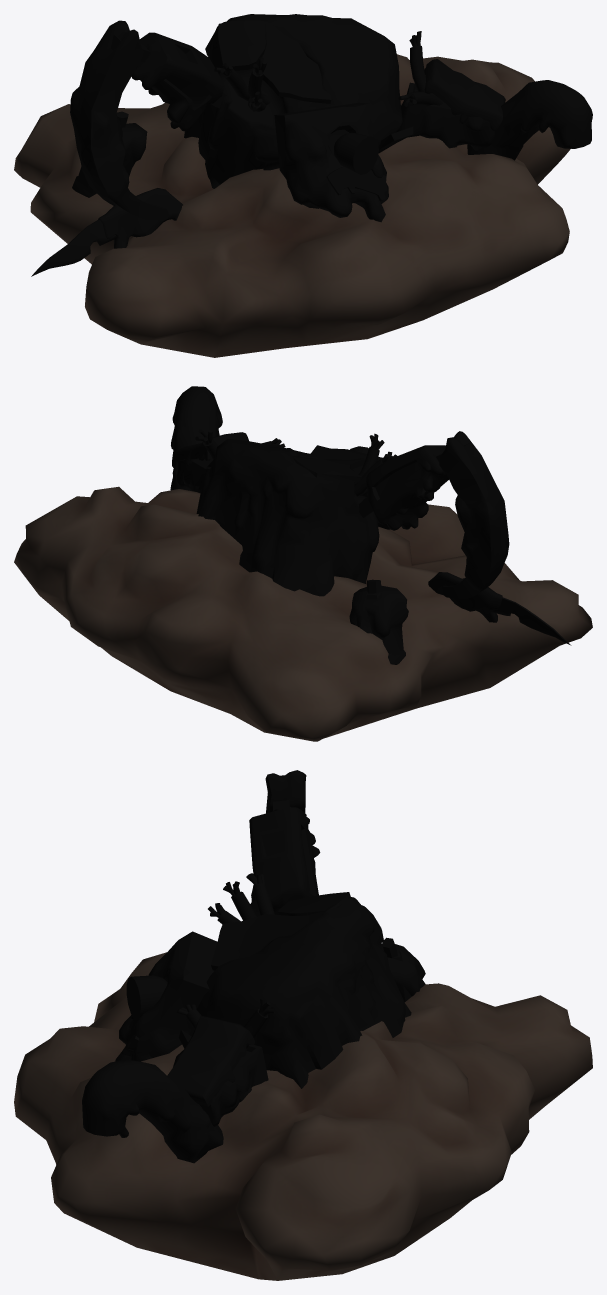
Rendered from env_burntforest_meltedbot04.fbx.
3 views of the same model, one above another, from view 1: azimuth 30°, elevation 25°; view 2: azimuth 150°, elevation 25°; view 3: azimuth 270°, elevation 25° (orthographic). The views are drawn at different scales.
Visible parts, largest first — view 1: env_forest_meltedbot04; view 2: env_forest_meltedbot04; view 3: env_forest_meltedbot04.
Part boxes in pixels (x1,y1,x2,y2): env_forest_meltedbot04: (14,14,592,357); env_forest_meltedbot04: (14,386,592,741); env_forest_meltedbot04: (14,770,592,1280).
Bounding box in the file's own units: 24.03 × 13.25 × 19.31.
